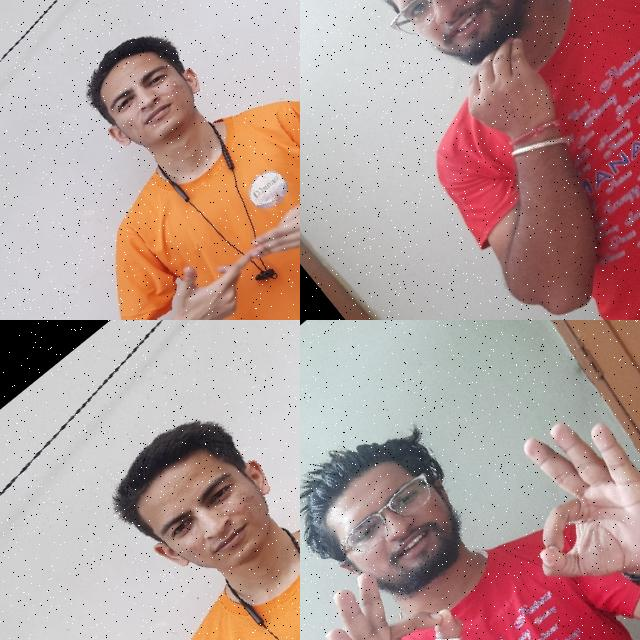Chin Flick: (344, 0, 616, 163)
Five Fathers: (141, 139, 300, 320)
Okay: (464, 389, 640, 630), (300, 531, 524, 640)
